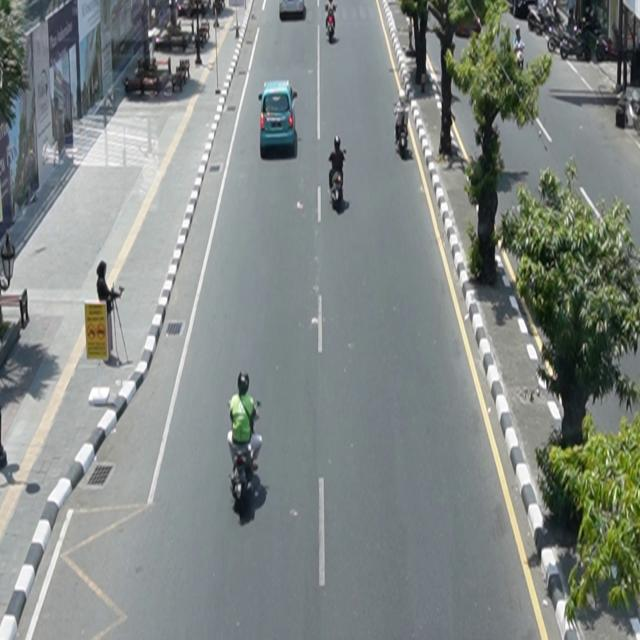car: (259, 80, 299, 159), (280, 1, 306, 17)
